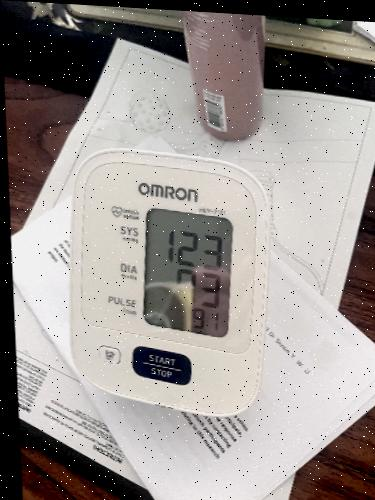bpm: (136, 206, 236, 344)
